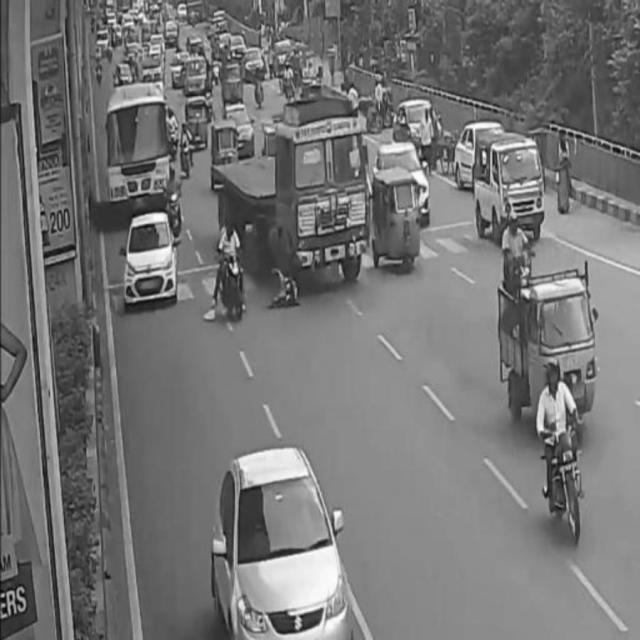person: (267, 263, 302, 310), (557, 135, 571, 212)
vehicle: (214, 455, 352, 640), (276, 122, 366, 282), (535, 368, 586, 538), (104, 90, 168, 206), (474, 135, 544, 239), (374, 170, 425, 278), (124, 212, 180, 310), (379, 139, 430, 227), (214, 207, 244, 323), (497, 212, 532, 296)
